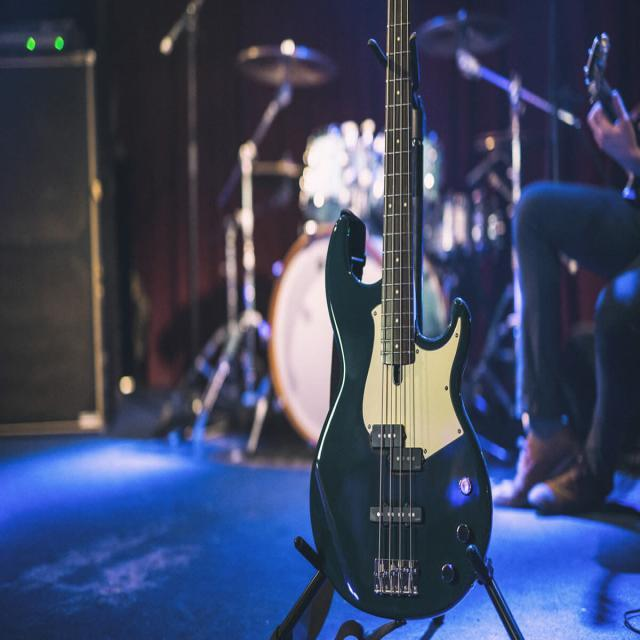bass: (310, 0, 491, 618)
